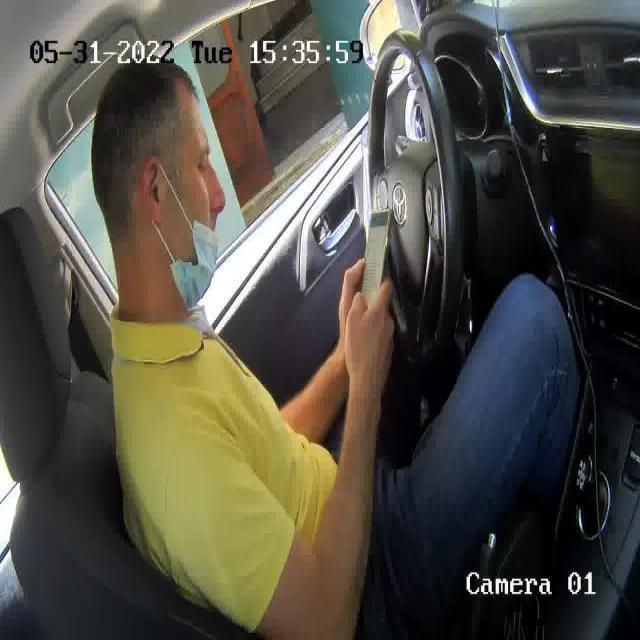Attentive: (84, 56, 233, 322)
Eye-Close: (195, 158, 211, 176)
